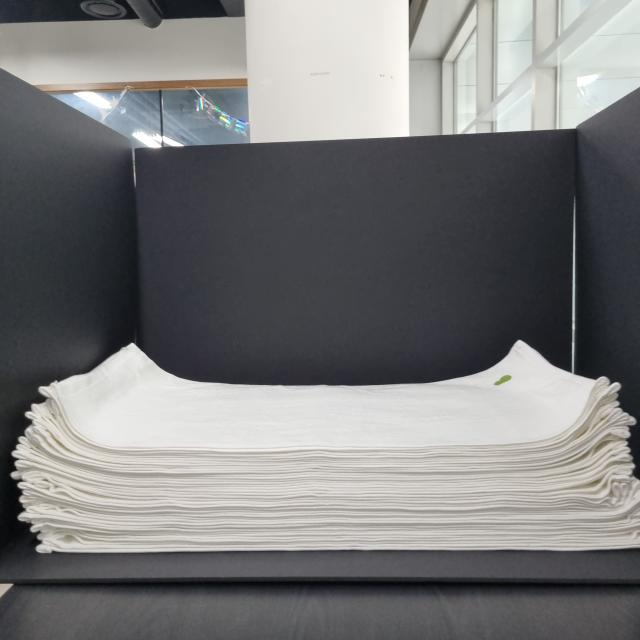not_50count_towel: (0, 334, 640, 560)
